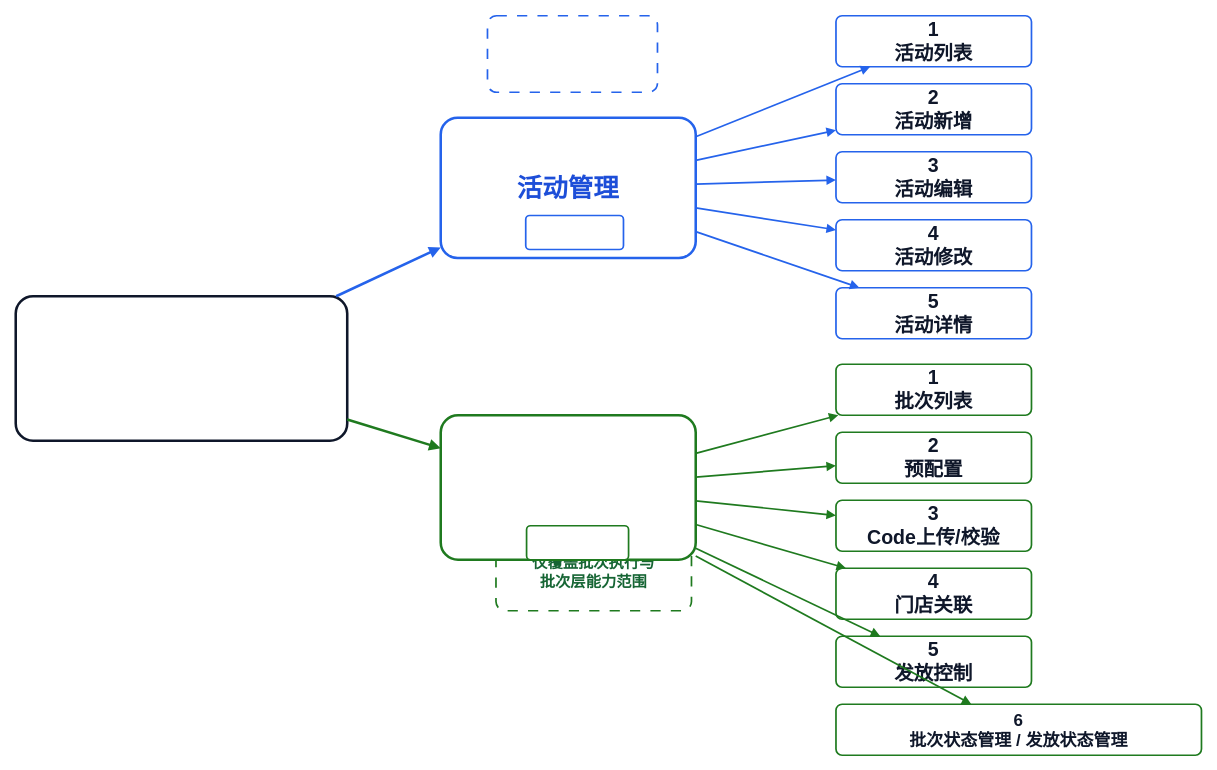
This 1217x770 diagram has some shape labels left out. Each missing label, with the centre of its shape:
"Weixin摇一摇" goes at (x=181, y=368).
"仅覆盖活动层 能力范围" goes at (x=572, y=53).
"批次状态主源" goes at (x=577, y=542).
"批次管理" goes at (x=568, y=487).
"活动状态主源" goes at (x=574, y=232).
